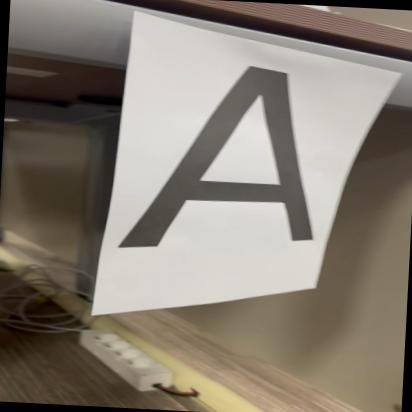seat: (121, 50, 331, 262)
